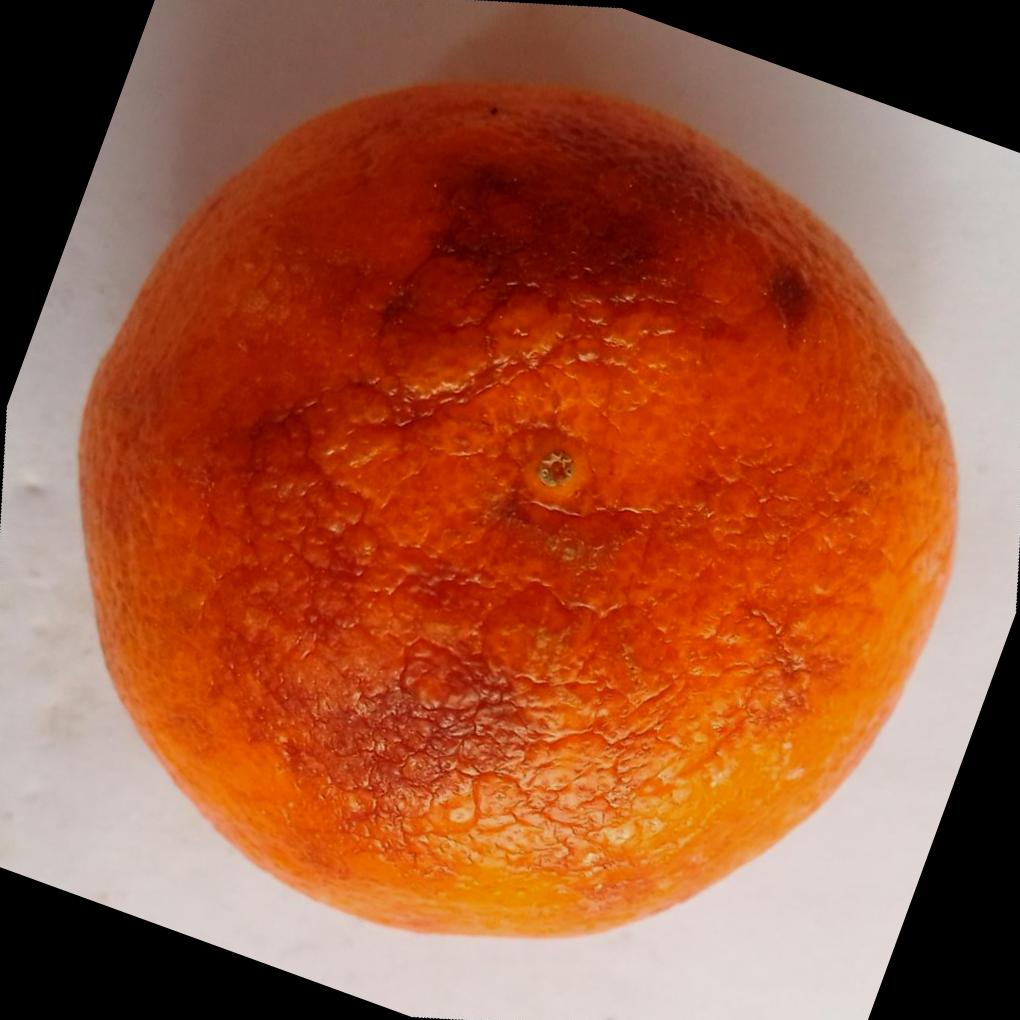FreshOrange: (71, 76, 958, 938)
